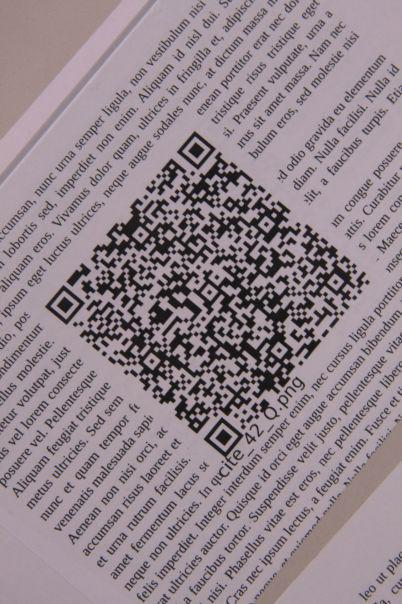Finder pattern: (41, 283, 91, 329), (171, 127, 221, 171), (204, 415, 244, 458)
